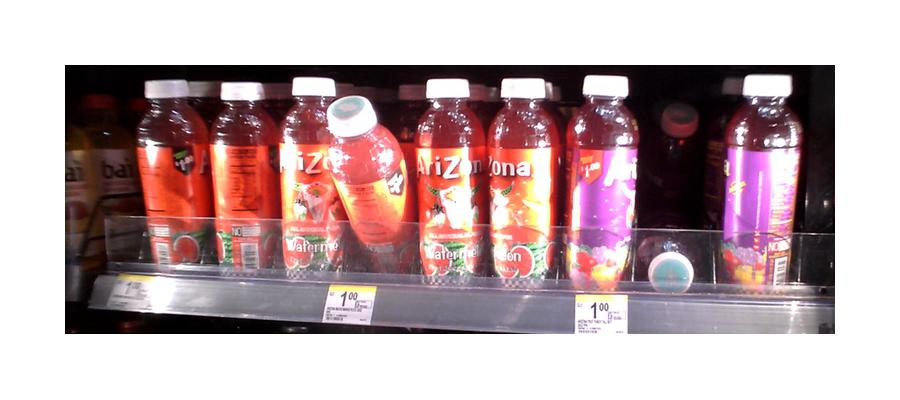bottle: (725, 71, 802, 291), (565, 72, 636, 294), (332, 94, 414, 276), (487, 75, 556, 289), (415, 73, 481, 287), (139, 73, 209, 269), (209, 77, 276, 279), (278, 74, 334, 280), (641, 212, 700, 300)
